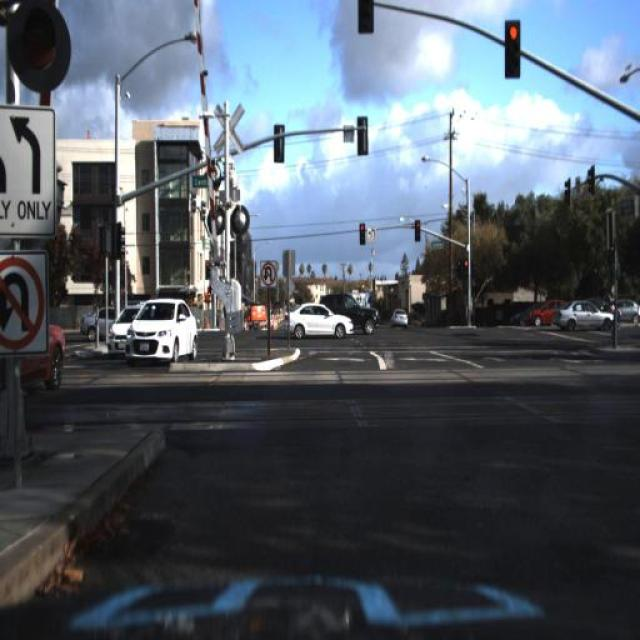car: (122, 298, 197, 364), (283, 298, 352, 346), (104, 300, 154, 359), (76, 302, 139, 342), (105, 304, 149, 358), (327, 290, 378, 335), (529, 296, 575, 330), (504, 300, 544, 325), (508, 300, 542, 328)
trafficLight-Green: (13, 2, 68, 86), (356, 1, 376, 34)
trafficLight-RedLeft: (503, 18, 522, 78), (412, 213, 423, 246), (462, 252, 471, 284), (358, 218, 367, 248), (414, 216, 420, 242)
